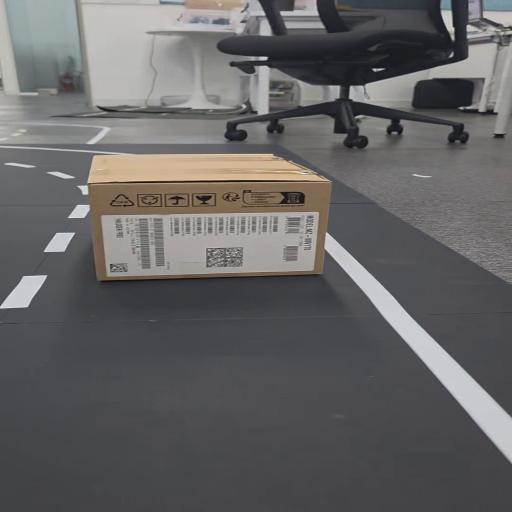Box: (85, 150, 346, 288)
